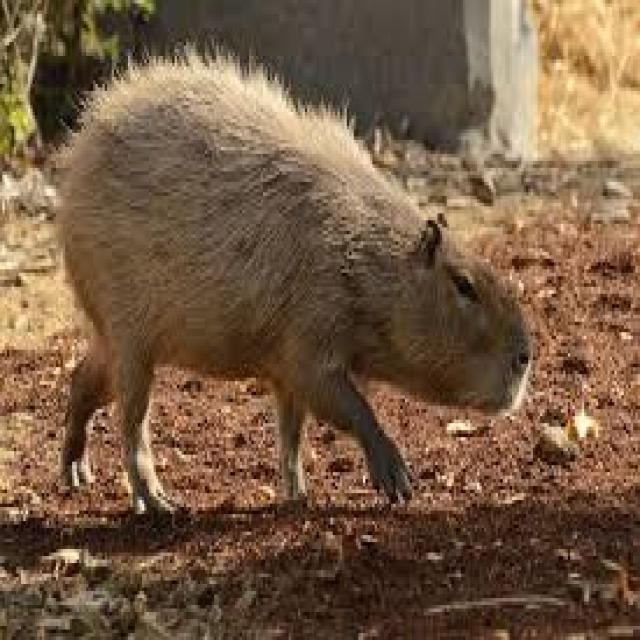capy: (54, 49, 534, 516)
